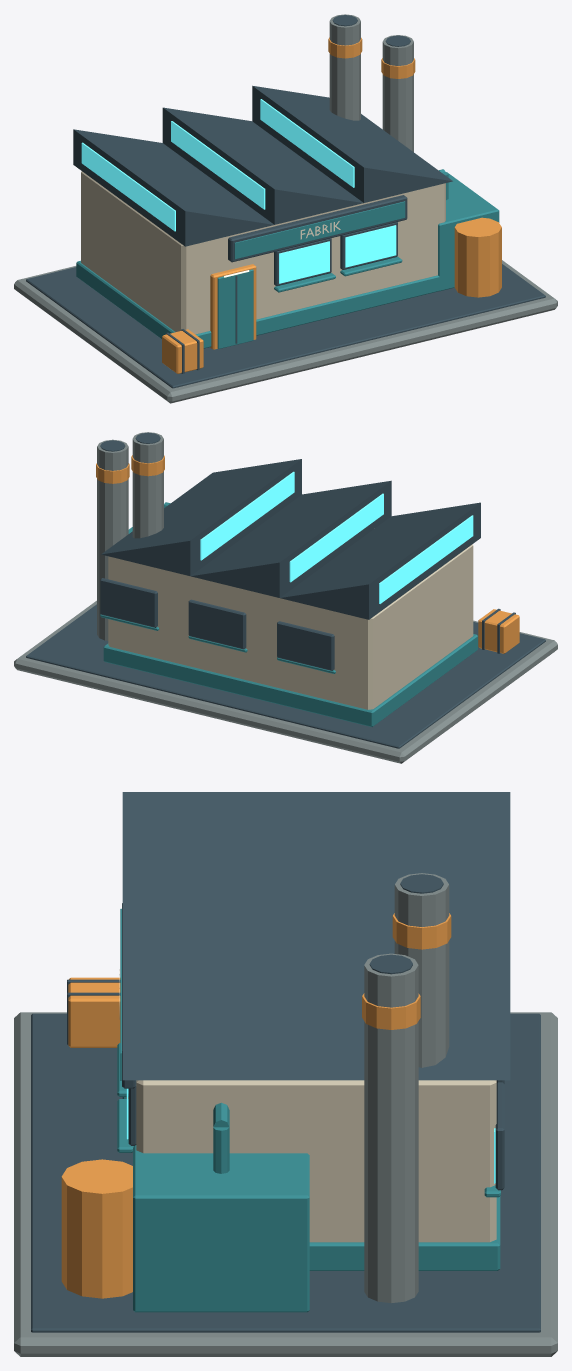
The model's file is factory.glb.
3 views of the same model, one above another, from view 1: azimuth 30°, elevation 25°; view 2: azimuth 150°, elevation 25°; view 3: azimuth 270°, elevation 25° (orthographic). The views are drawn at different scales.
Visible parts, largest first — view 1: factory; view 2: factory; view 3: factory.
Part boxes in pixels (bbox=[...]): factory: bbox=[14, 14, 557, 403]; factory: bbox=[14, 432, 557, 763]; factory: bbox=[14, 792, 557, 1356].
Size of the model in its own units: 11.5 by 6.4 by 8.
